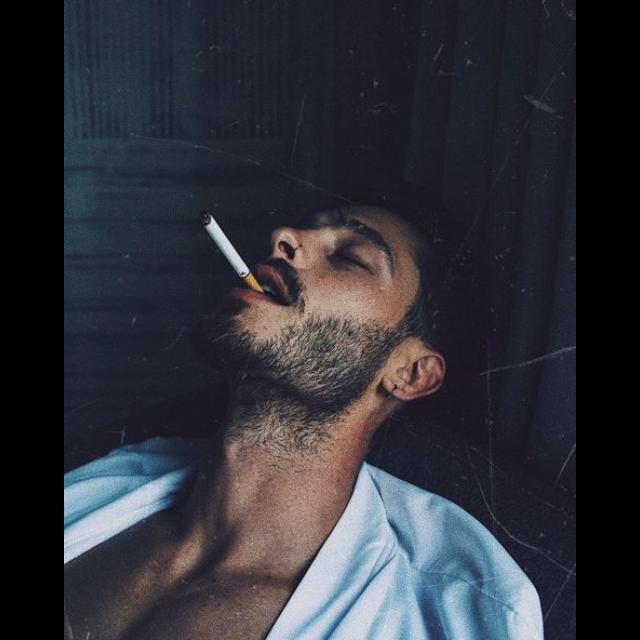rokok: (191, 203, 259, 294)
